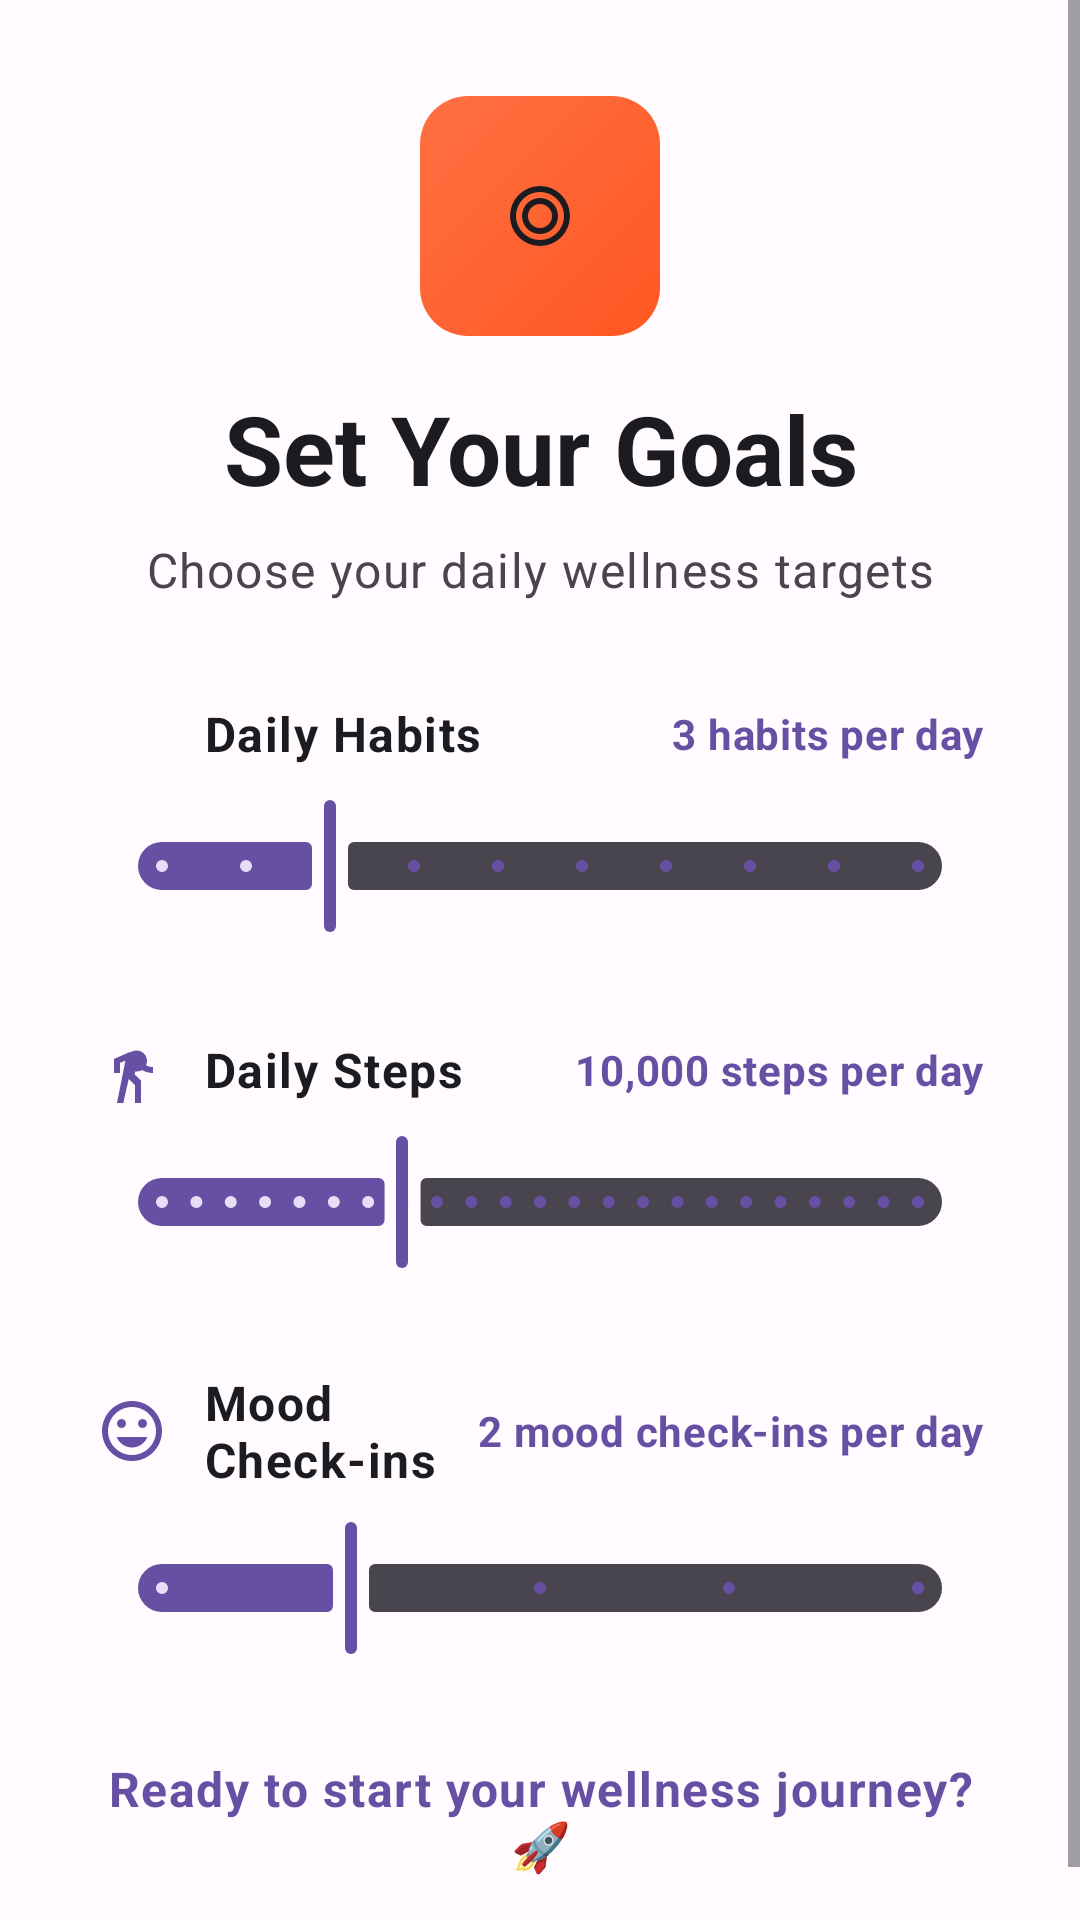

Icons on this 1080 x 1920 Android screen, each with its box as (x1, y1, x2, y2):
directions walk: (114, 1050, 153, 1103)
target: (420, 96, 660, 336)
